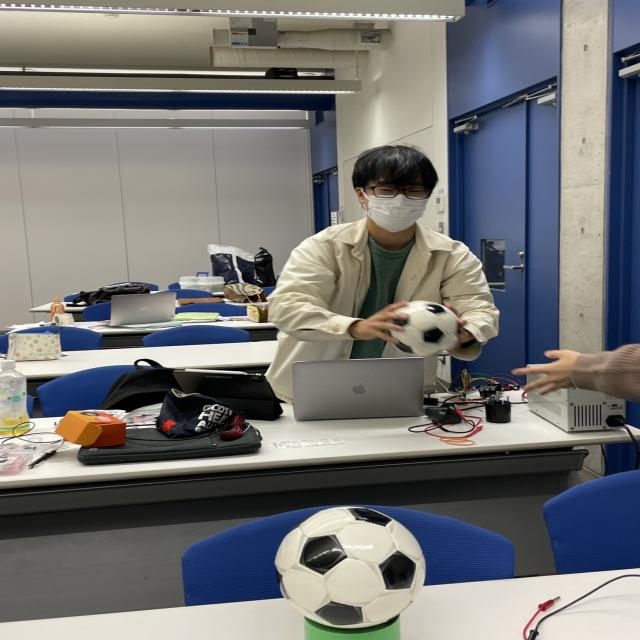ball: (276, 508, 428, 630), (382, 301, 460, 356)
